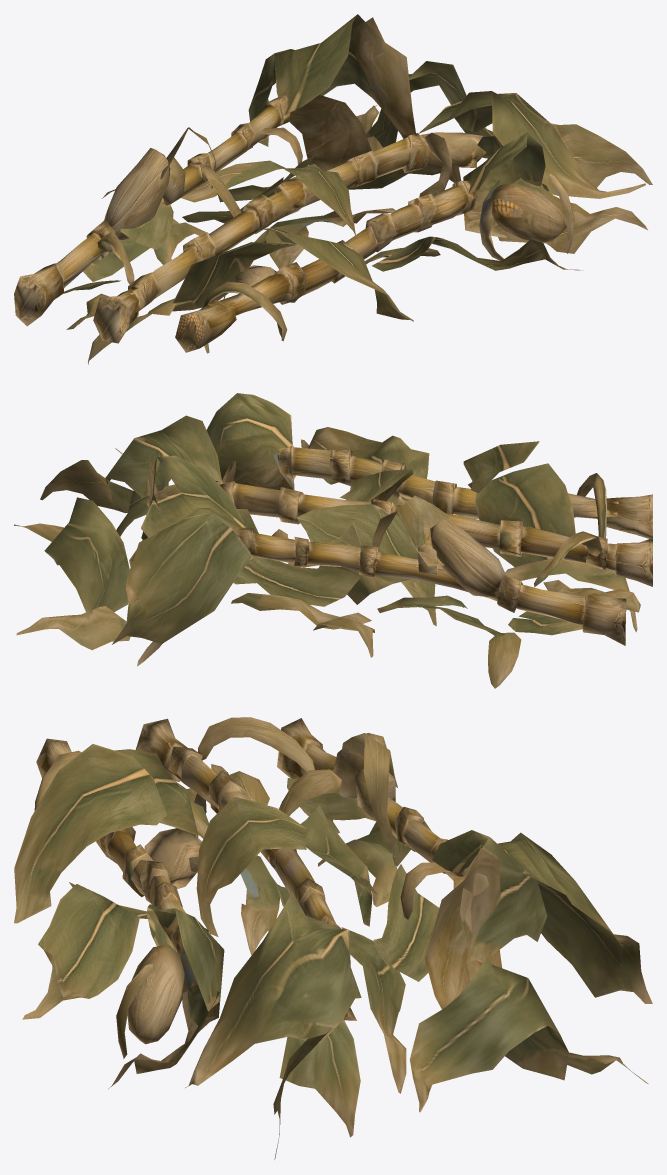
File: fallen-corn-stalk-cluster-variant-b.glb
3 renders of one model, top to bottom at view 1: azimuth 30°, elevation 25°; view 2: azimuth 150°, elevation 25°; view 3: azimuth 270°, elevation 25°, orthographic. The views are drawn at different scales.
Visible parts, largest first — view 1: fallen-corn-stalk-cluster-variant-b; view 2: fallen-corn-stalk-cluster-variant-b; view 3: fallen-corn-stalk-cluster-variant-b.
Boxes of the visible parts, box(x1,y1,x2,y2) form: fallen-corn-stalk-cluster-variant-b: box(14, 14, 652, 364); fallen-corn-stalk-cluster-variant-b: box(14, 393, 652, 688); fallen-corn-stalk-cluster-variant-b: box(14, 717, 652, 1159).
Size of the model in its own units: 1.34 by 0.396 by 0.9515.
1 material, 1 textured.
